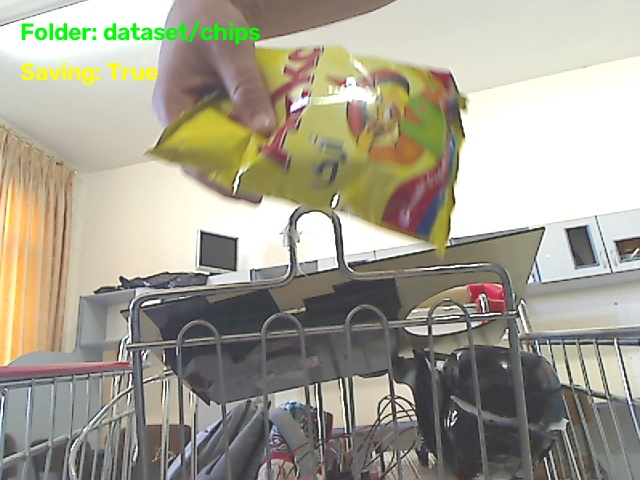chips: (149, 47, 463, 250)
